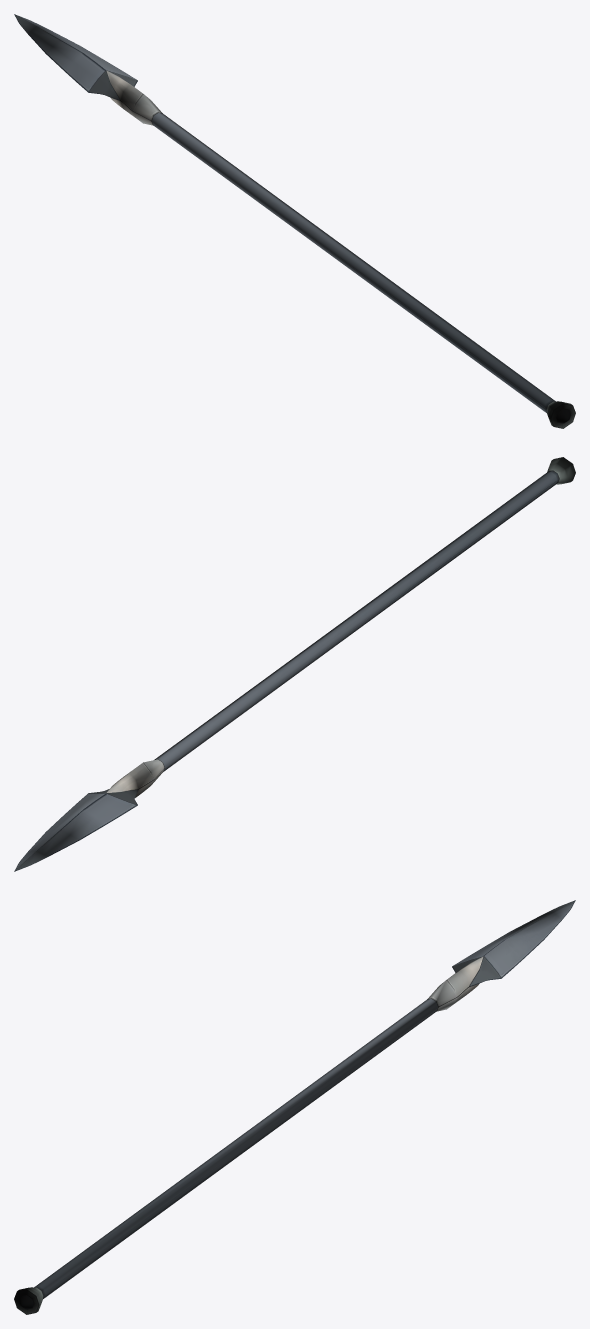
File: soldier.glb
The picture shows the model from 3 angles, top to bottom: view 1: azimuth 30°, elevation 25°; view 2: azimuth 150°, elevation 25°; view 3: azimuth 330°, elevation 25°; orthographic projection.
Visible parts, largest first — view 1: CH_NPC_Soldier_WP_Base.001; view 2: CH_NPC_Soldier_WP_Base.001; view 3: CH_NPC_Soldier_WP_Base.001.
Boxes of the visible parts, box(x1,y1,x2,y2) form: CH_NPC_Soldier_WP_Base.001: box(14, 14, 575, 428); CH_NPC_Soldier_WP_Base.001: box(14, 457, 575, 871); CH_NPC_Soldier_WP_Base.001: box(14, 900, 575, 1314).
Bounding box in the file's own units: 0.1082 × 0.0621 × 2.09.
Materials: 1 (1 with a texture image).
